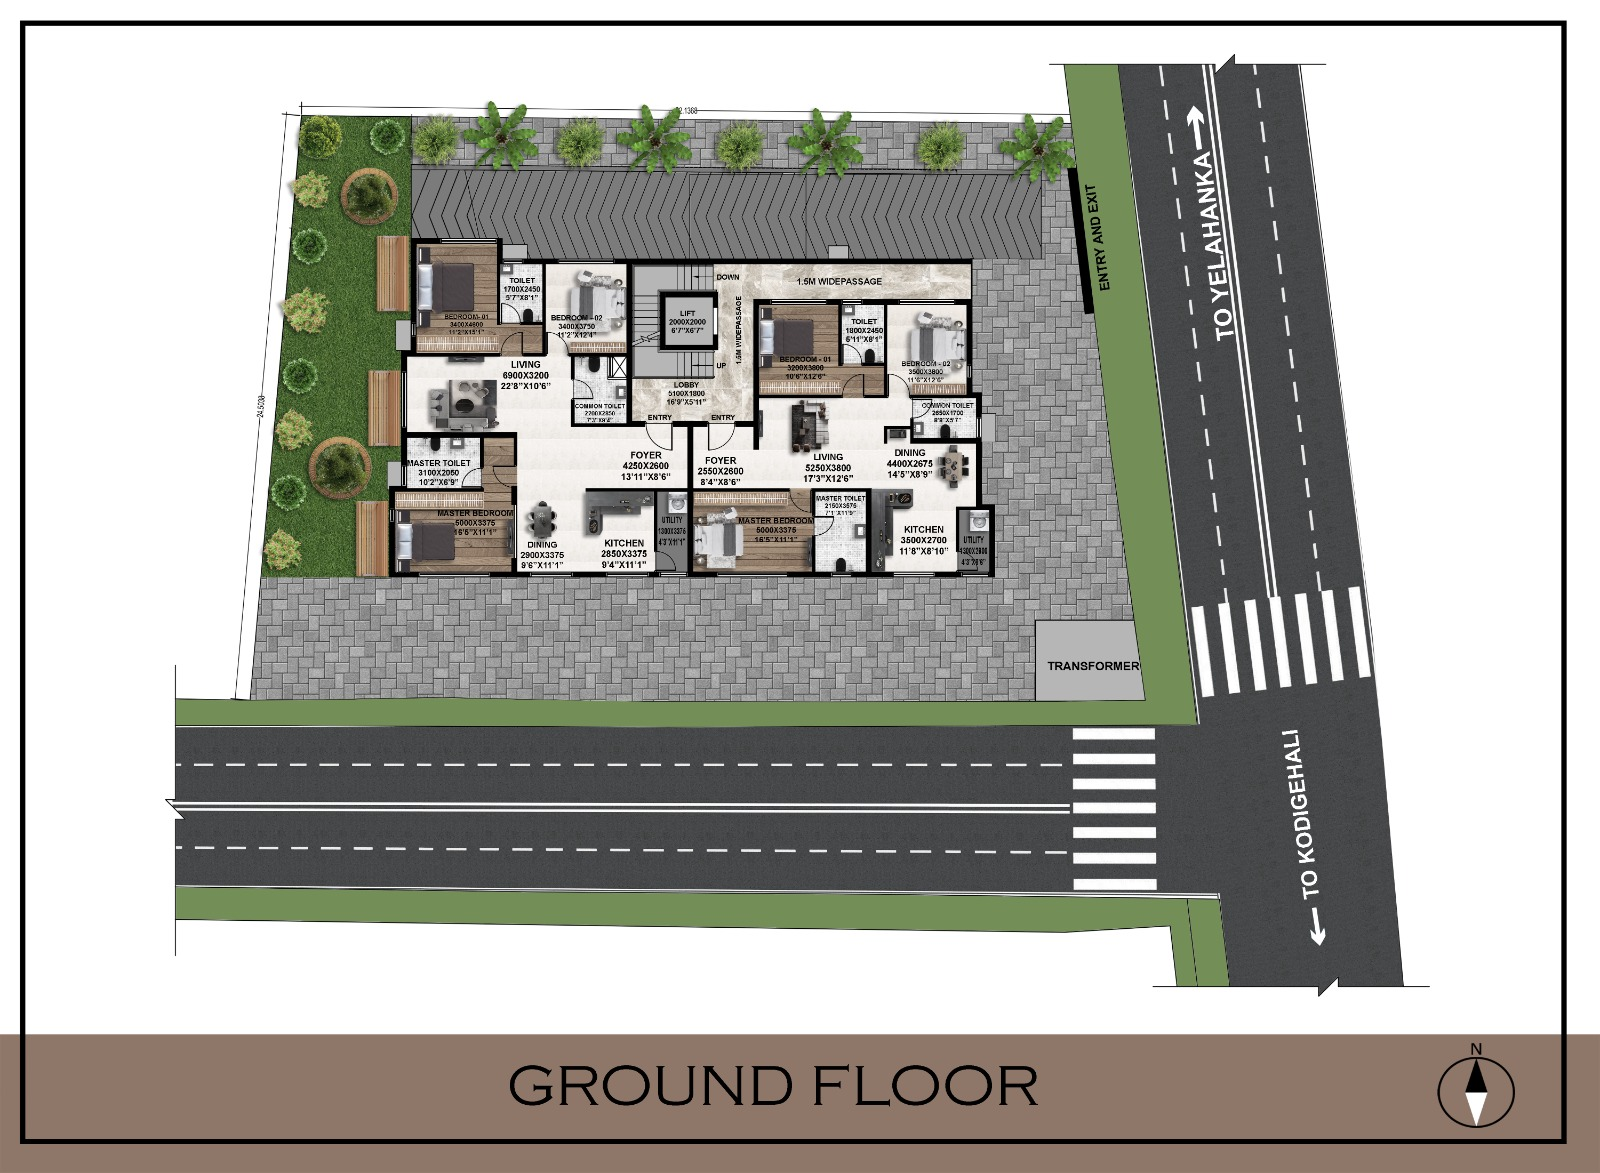door: (643, 423, 674, 451), (707, 425, 736, 452), (546, 330, 571, 355), (492, 463, 516, 489), (787, 489, 813, 513), (886, 373, 912, 397), (500, 331, 524, 355), (841, 372, 865, 396), (655, 549, 677, 574), (499, 301, 522, 324), (840, 342, 863, 365), (813, 515, 836, 537), (573, 377, 594, 401), (957, 550, 978, 573), (913, 398, 933, 419), (461, 468, 483, 487)
